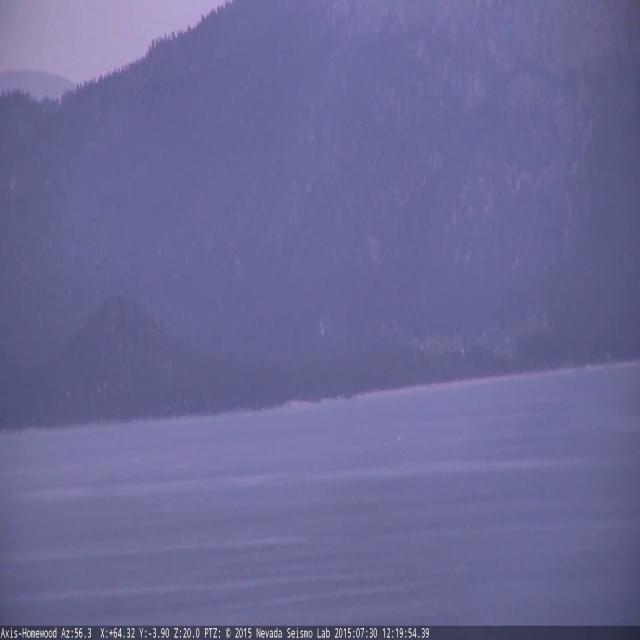smoke: (317, 312, 326, 347)
